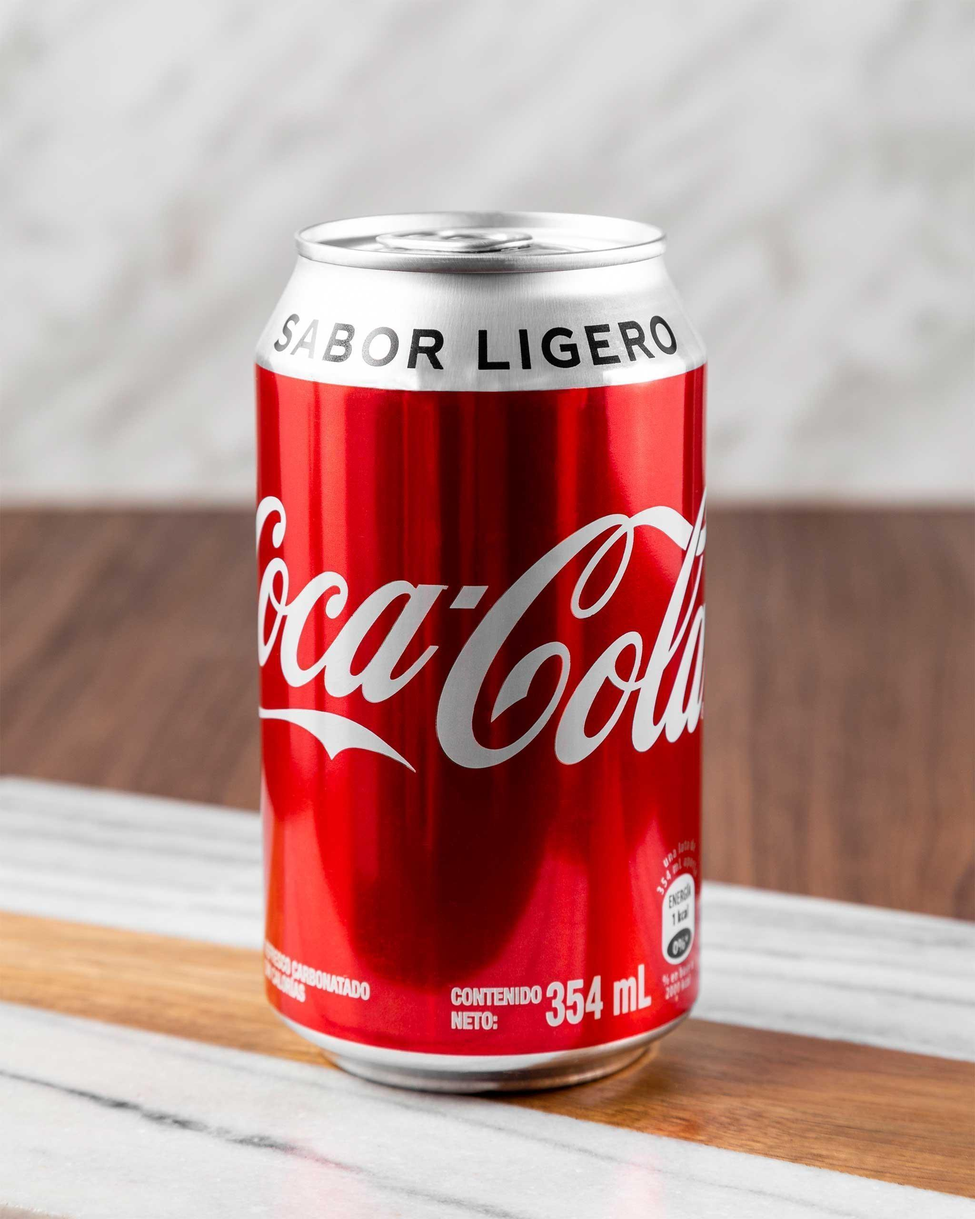tin can: (248, 208, 721, 1103)
